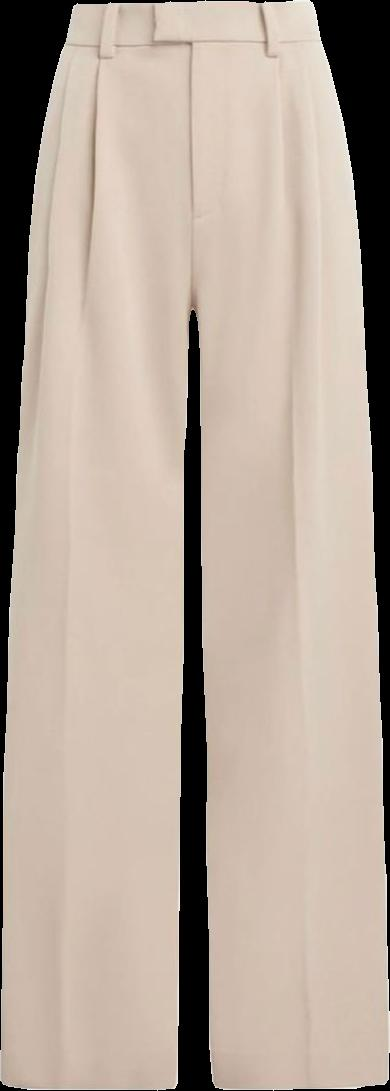Hemline: (0, 1072, 180, 1090), (212, 1074, 389, 1090)
Pantleg: (187, 0, 388, 1087), (1, 2, 192, 1088)
Waistline: (59, 33, 326, 52), (70, 0, 315, 12)
